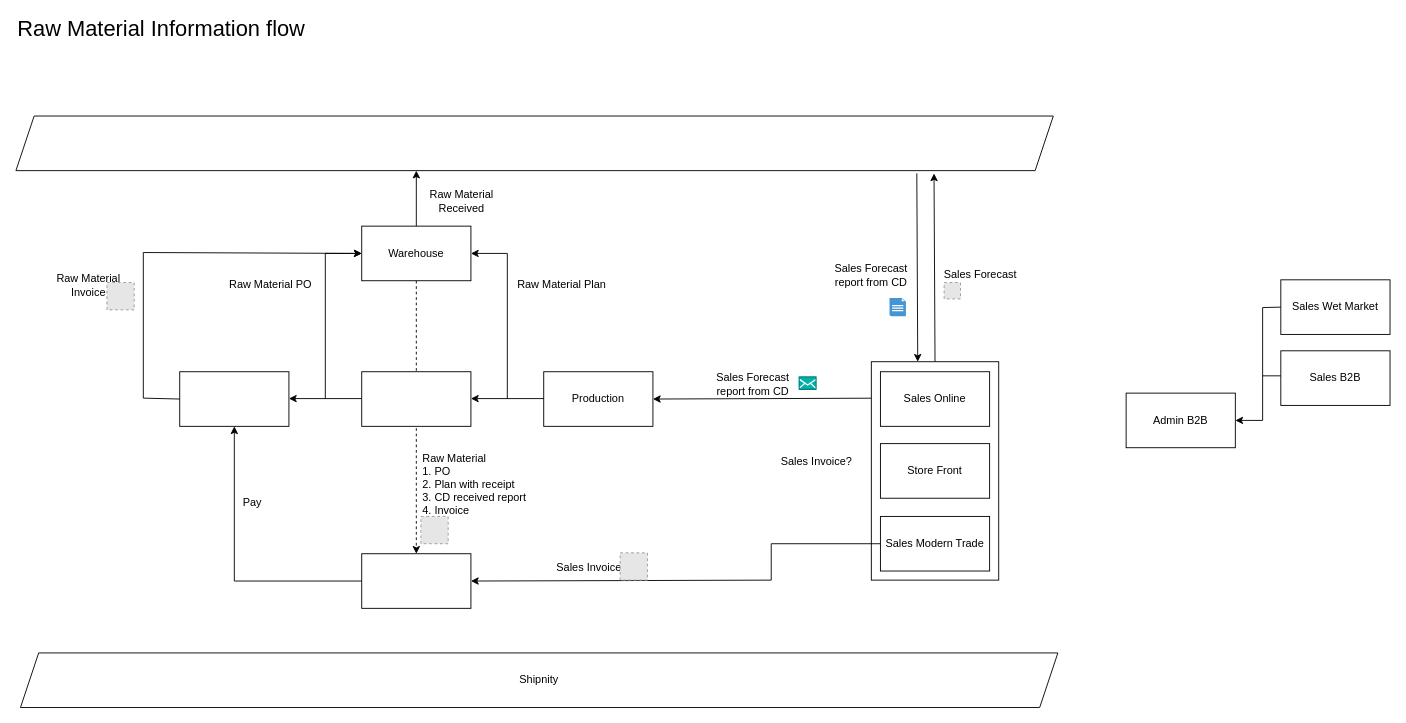
The diagram is 1406 pixels wide and 723 high, and some of its shapes have lost their labels. Grey dashed boxes stand in for pictures. The centre of each missing label's shape, as x and y in pixels:
"CD" belongs at point (534, 143).
"Finance" belongs at point (416, 580).
"Purchasing" belongs at point (416, 398).
"Supplier" belongs at point (234, 398).
